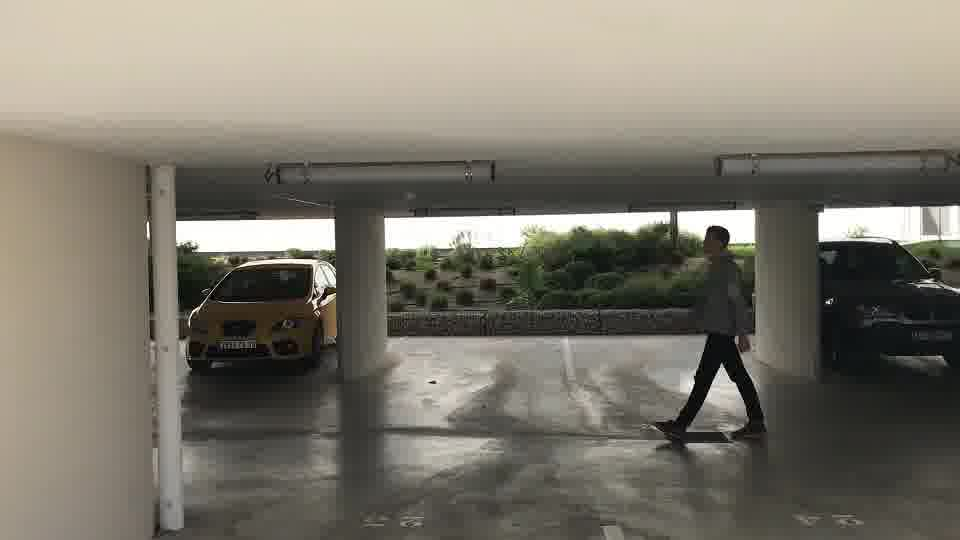jugador: (637, 225, 776, 445)
